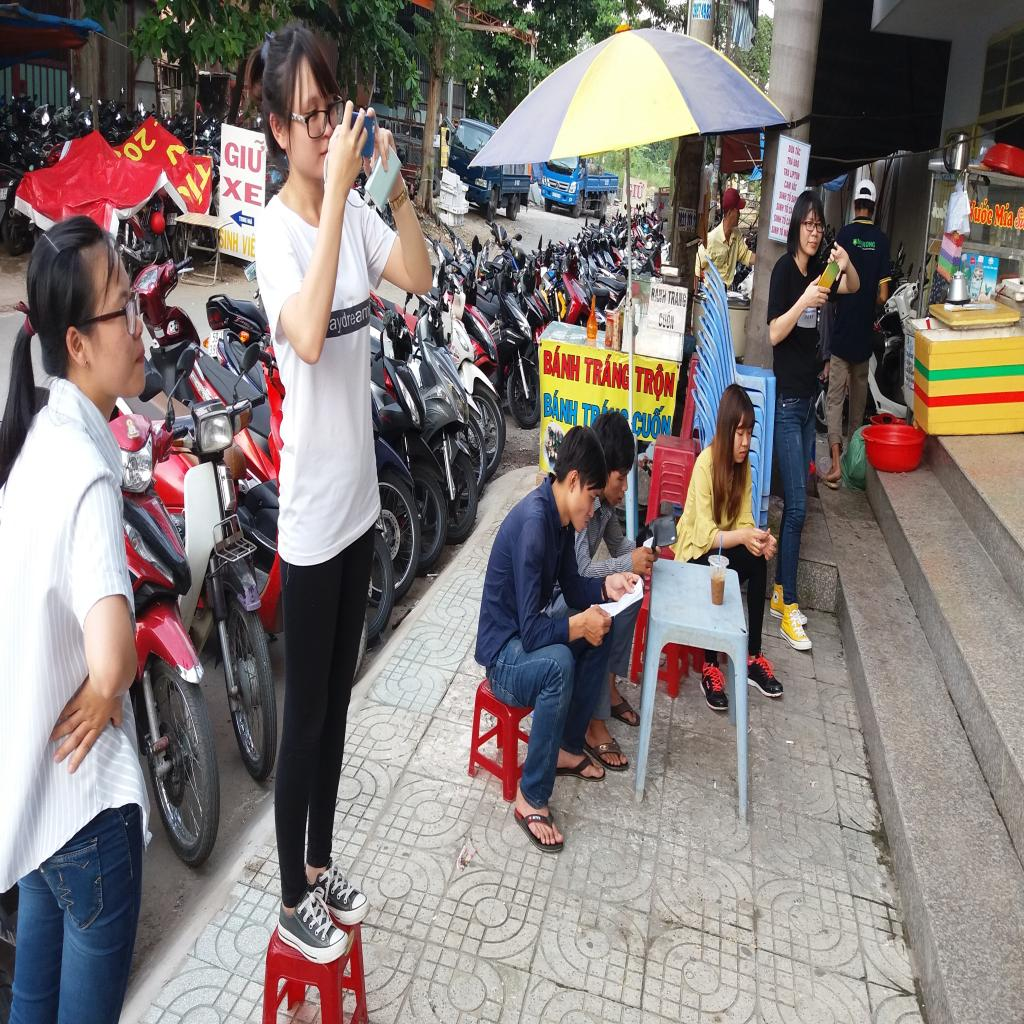text: (632, 356, 677, 406), (223, 131, 266, 177), (631, 398, 673, 444), (582, 350, 624, 394), (541, 340, 581, 386), (120, 122, 158, 168), (542, 383, 579, 429), (328, 301, 370, 340), (220, 172, 263, 210), (182, 166, 206, 210), (972, 193, 996, 228), (992, 201, 1016, 231), (217, 227, 239, 255), (241, 228, 256, 260), (657, 307, 676, 332), (666, 287, 687, 309), (676, 211, 696, 234), (650, 283, 668, 306), (631, 178, 646, 203), (580, 399, 592, 430), (1012, 202, 1024, 233), (856, 236, 876, 250), (436, 402, 449, 420), (790, 168, 800, 182), (778, 188, 788, 202), (774, 200, 784, 214), (770, 224, 780, 236), (208, 343, 217, 356), (783, 178, 792, 191), (773, 212, 782, 225), (792, 157, 800, 170), (658, 200, 666, 213), (506, 337, 516, 347), (788, 142, 795, 156), (795, 144, 802, 158), (783, 164, 790, 178), (212, 331, 219, 344), (786, 154, 793, 167), (238, 214, 247, 224), (792, 180, 798, 194), (786, 190, 792, 203), (778, 225, 784, 238), (783, 227, 789, 240), (784, 201, 789, 216), (705, 679, 711, 691), (791, 194, 797, 206), (781, 214, 787, 226), (785, 216, 791, 228), (166, 218, 175, 226), (532, 815, 542, 822), (804, 315, 814, 322), (453, 351, 460, 361), (167, 213, 176, 220), (247, 216, 253, 226), (788, 204, 793, 216), (1, 193, 7, 201), (152, 500, 158, 506), (2, 188, 7, 194)
